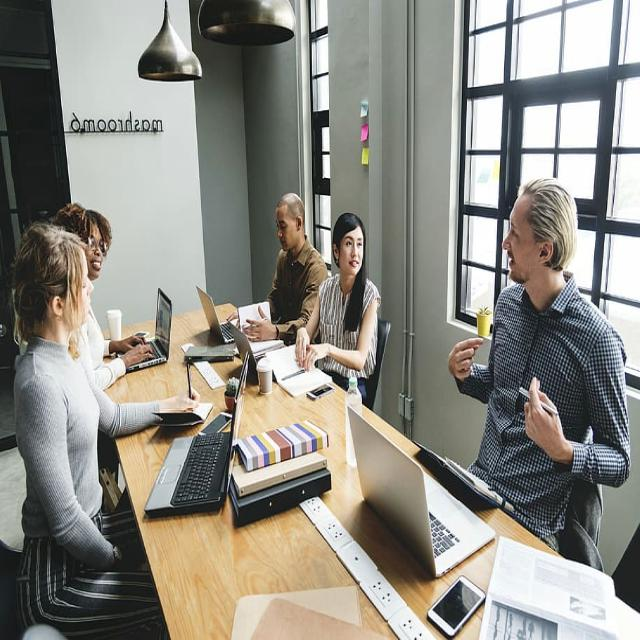adult: (12, 225, 197, 640), (447, 178, 630, 526), (296, 212, 380, 390), (242, 194, 327, 346)
